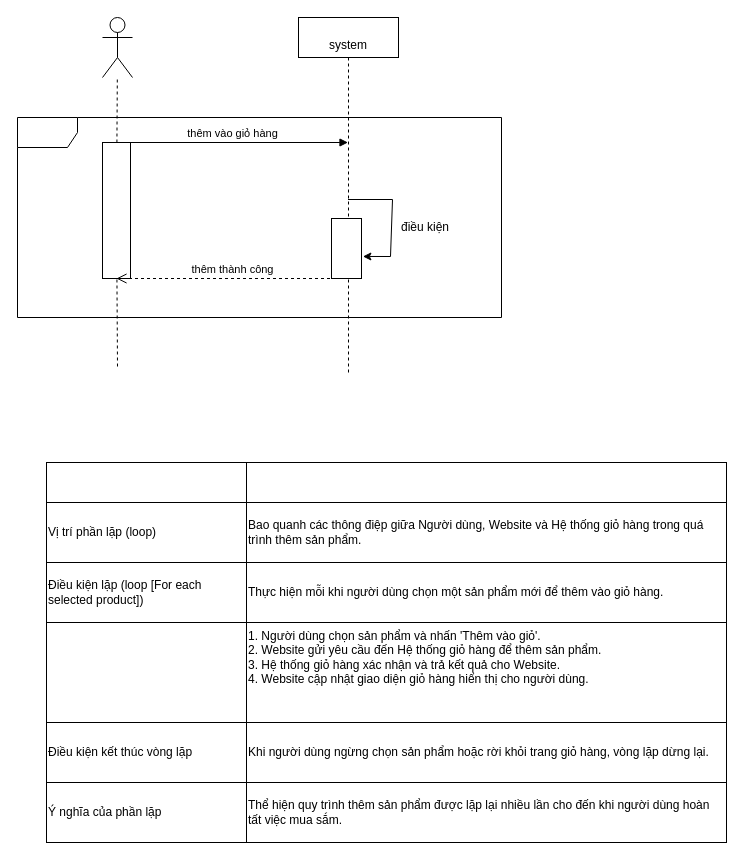
Some shapes in this 744 by 860 pixel diagram are drawn without their labels. The box of each missing label's shape, as (x1, y1, x2, y2) in pixels:
Các bước được lặp lại: (46, 622, 246, 722)
loop: (16, 116, 502, 318)
Mô tả chi tiết: (246, 462, 726, 502)
Thành phần: (46, 462, 246, 502)
